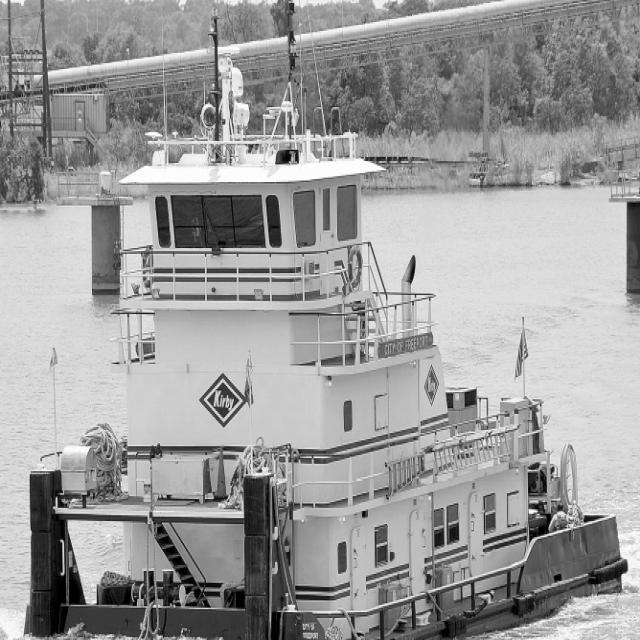tugboat: (19, 124, 634, 640)
